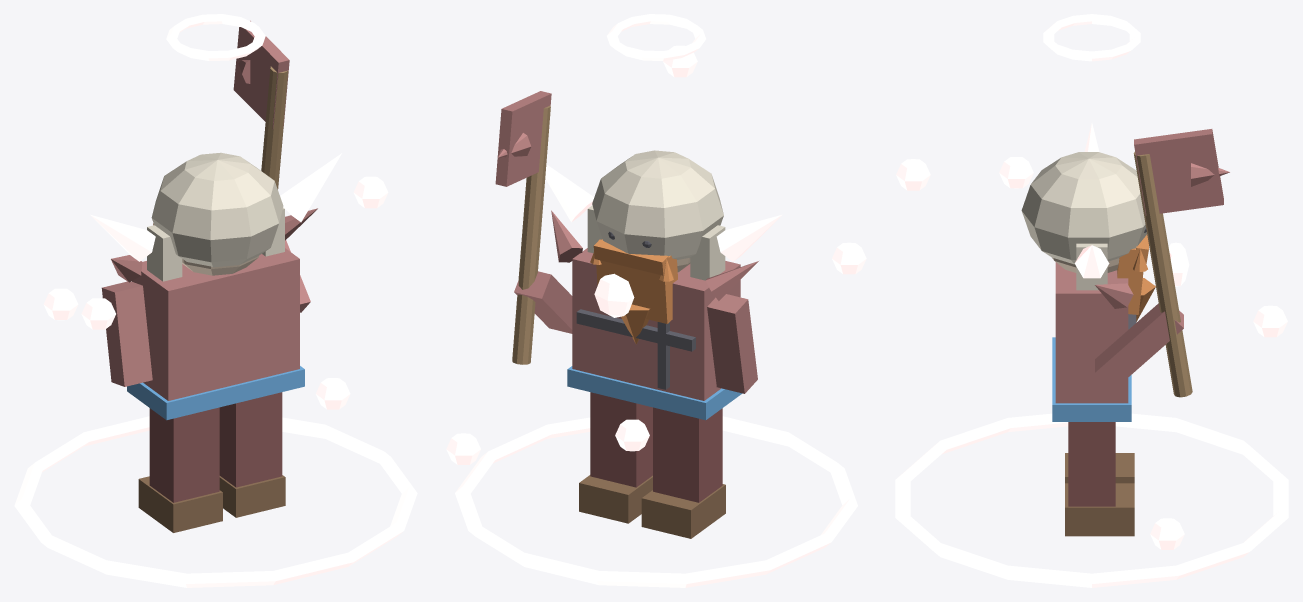
File: evolved_lumberjack.glb
The picture shows the model from 3 angles, left to right: view 1: azimuth 30°, elevation 25°; view 2: azimuth 150°, elevation 25°; view 3: azimuth 270°, elevation 25°; orthographic projection.
Parts seen in each view (by area): view 1: evolved_lumberjack; view 2: evolved_lumberjack; view 3: evolved_lumberjack.
Boxes of the visible parts, x1,y1,x2,y2 form: evolved_lumberjack: (14, 14, 417, 587); evolved_lumberjack: (446, 14, 866, 587); evolved_lumberjack: (895, 14, 1288, 587).
Bounding box in the file's own units: 2.8 × 3.65 × 2.73.
